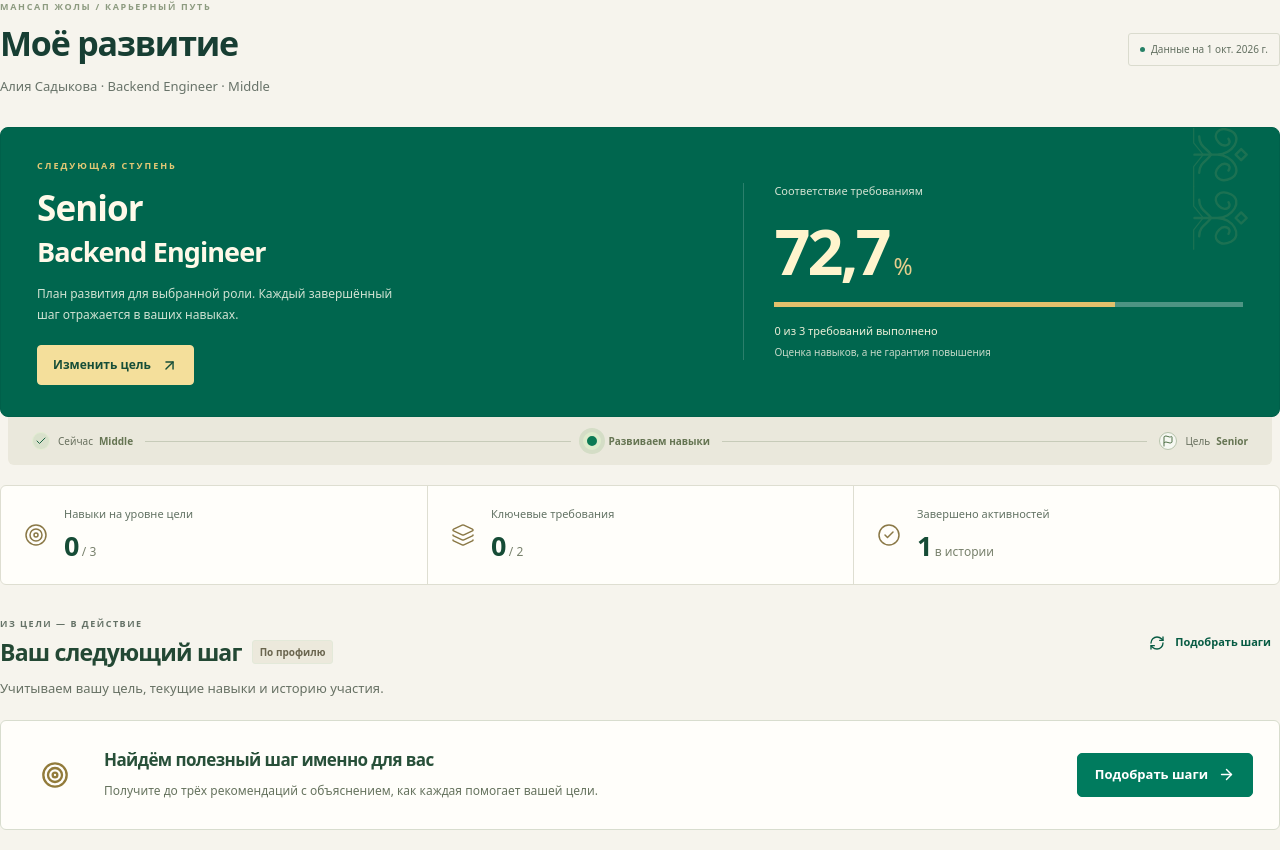
Test case: employee workflow › retries an uncertain completion with the same key and body, then shows server progress and stale cards
Click the button "Подобрать шаги" in the row of "По профилю" at (1210, 643), box [1140,621,1279,665]
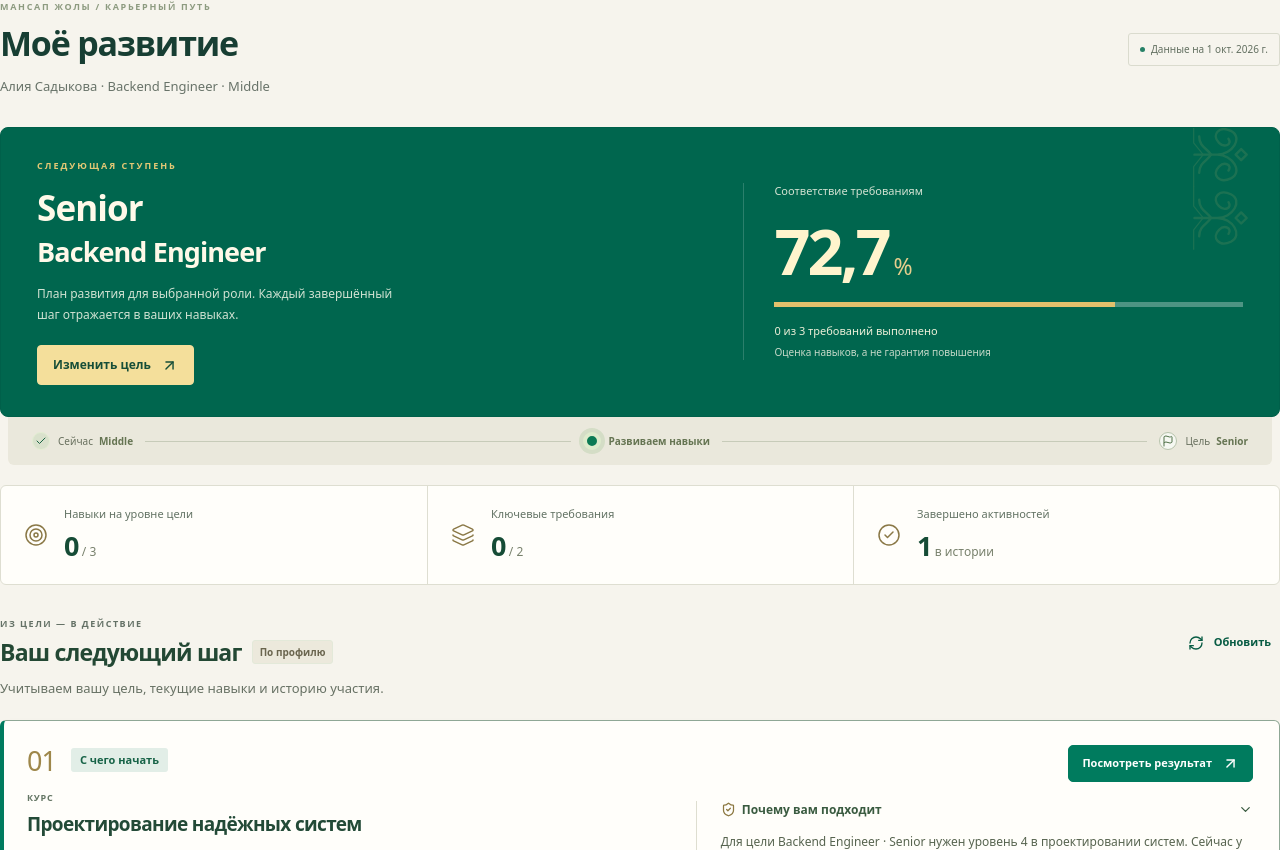
Click the button "Посмотреть результат" at (1161, 763), box [1068,744,1253,782]
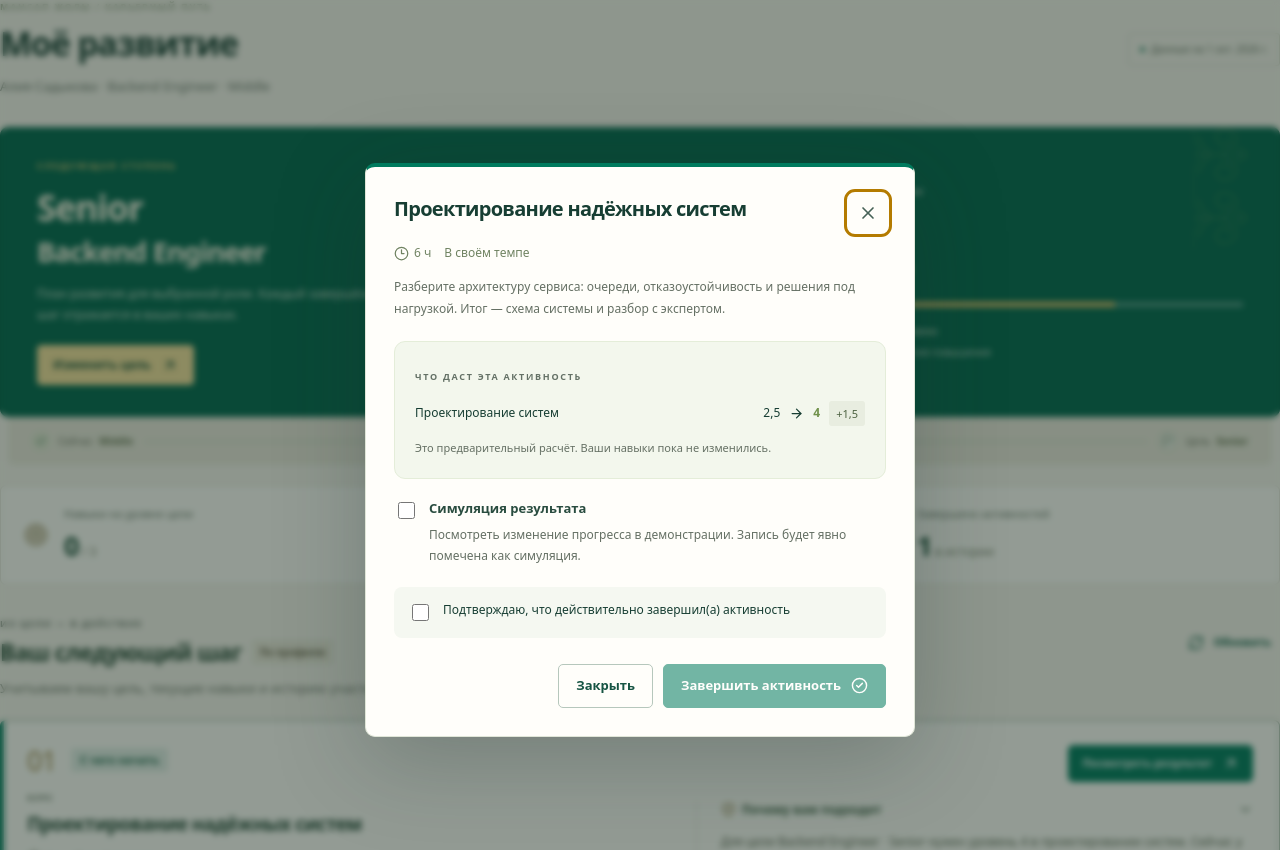
Result: the text "Это предварительный расчёт. Ваши навыки пока не изменились." is shown at [415,440,771,455]
Click the checkbox labelled "Подтверждаю, что действительно завершил(а) активность" at (420, 612), box [412,604,429,621]
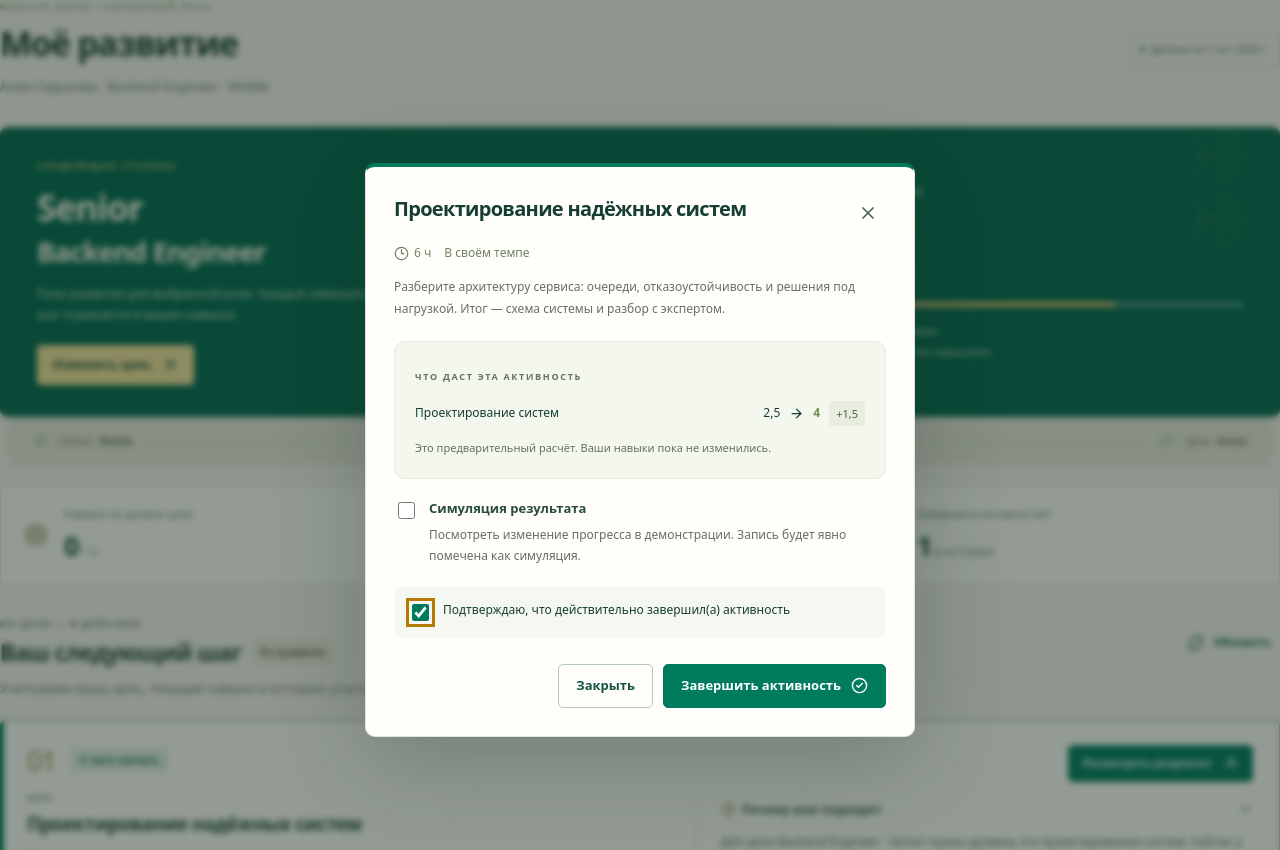
Click the button "Завершить активность" at (774, 686), box [663,664,886,708]
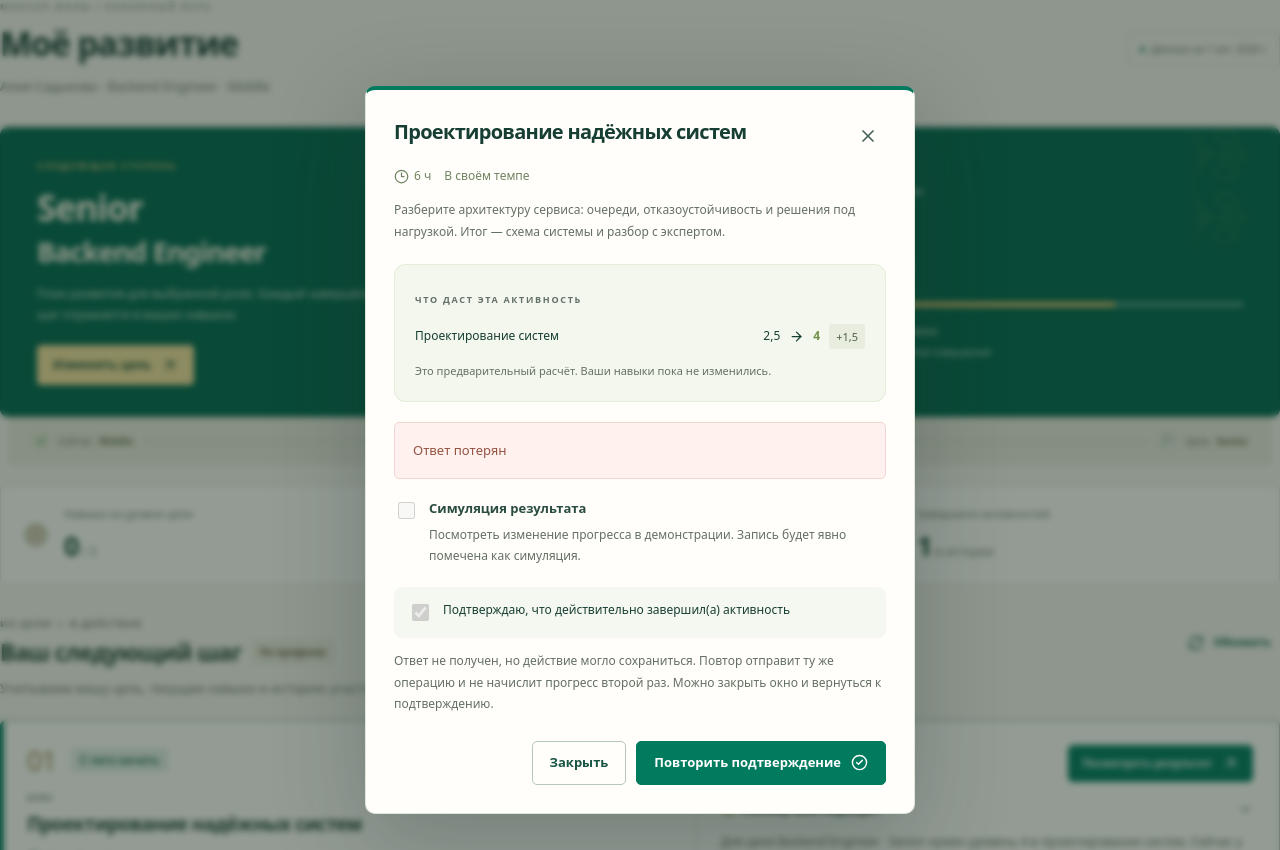
Result: the message reads "Ответ потерян" at [413,441,506,459]
Result: the checkbox labelled "Симуляция результата" is disabled at [398,502,415,519]
Click the button "Повторить подтверждение" at (761, 763), box [636,741,886,785]
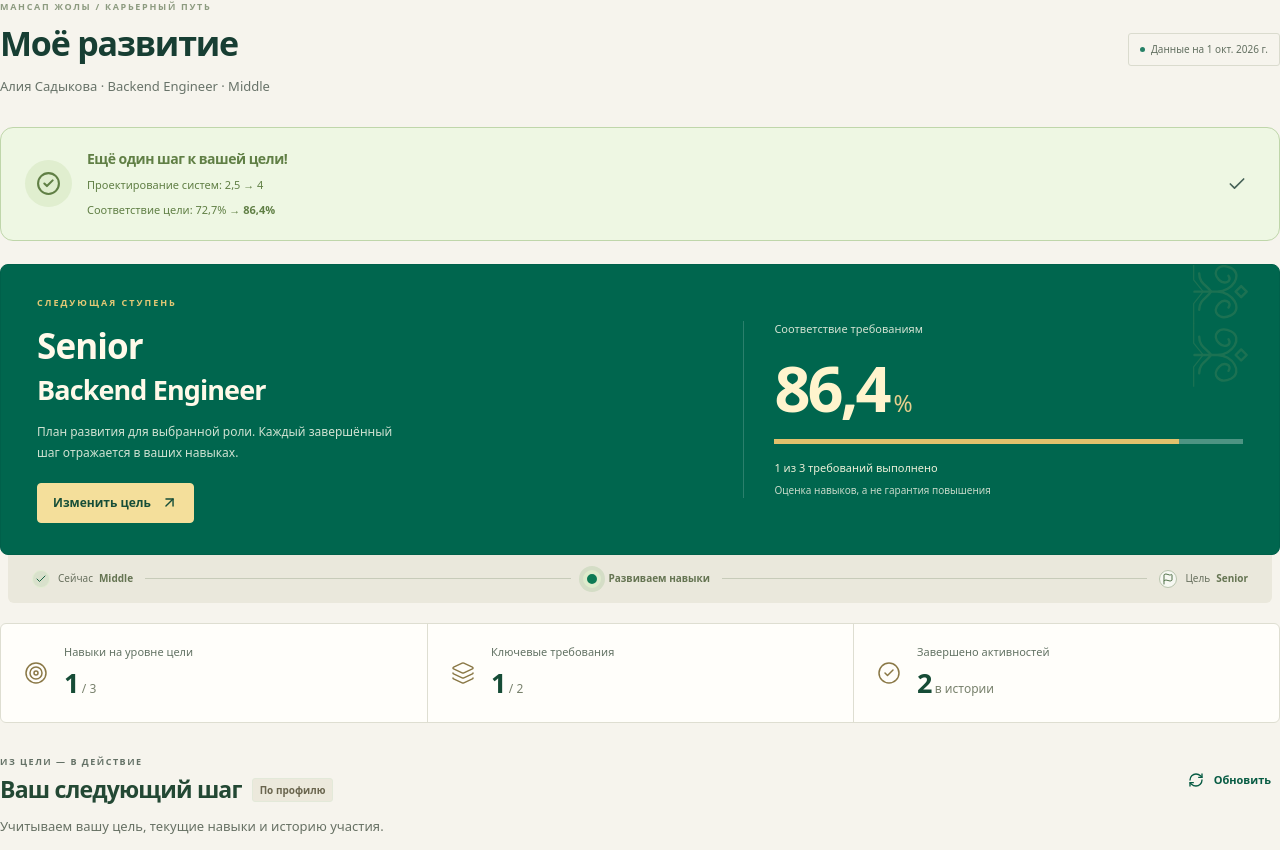
Result: the heading "Ещё один шаг к вашей цели!" is shown at [87,148,287,169]
Result: the text "Соответствие цели: 72,7% → 86,4%" is shown at [87,200,287,220]
